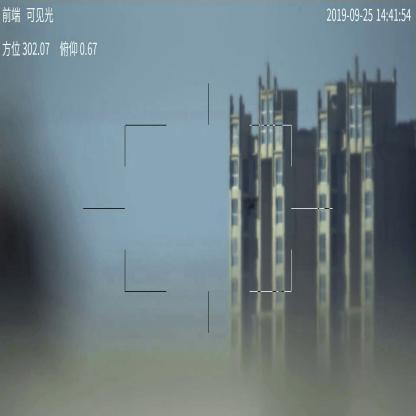uav: (241, 194, 259, 215)
